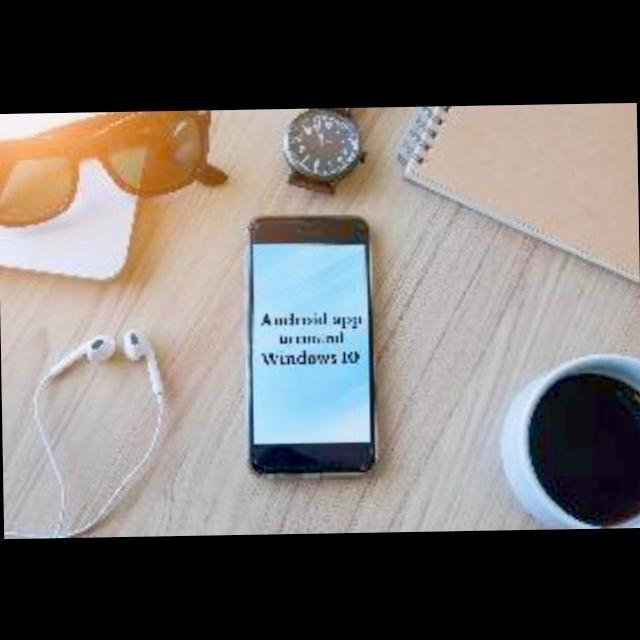phone: (246, 206, 385, 482)
